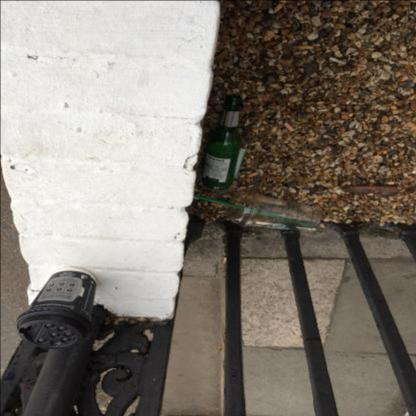Bottle cap: (201, 94, 242, 189)
Cigarette: (329, 57, 347, 65), (284, 121, 296, 131), (273, 4, 283, 14), (293, 45, 314, 49), (247, 172, 258, 178), (210, 202, 222, 207), (234, 201, 242, 206), (222, 258, 226, 266)
Cup: (25, 266, 97, 322), (241, 191, 321, 231)
Lid: (17, 307, 93, 349), (226, 192, 259, 228)
Straw: (194, 195, 304, 223)
